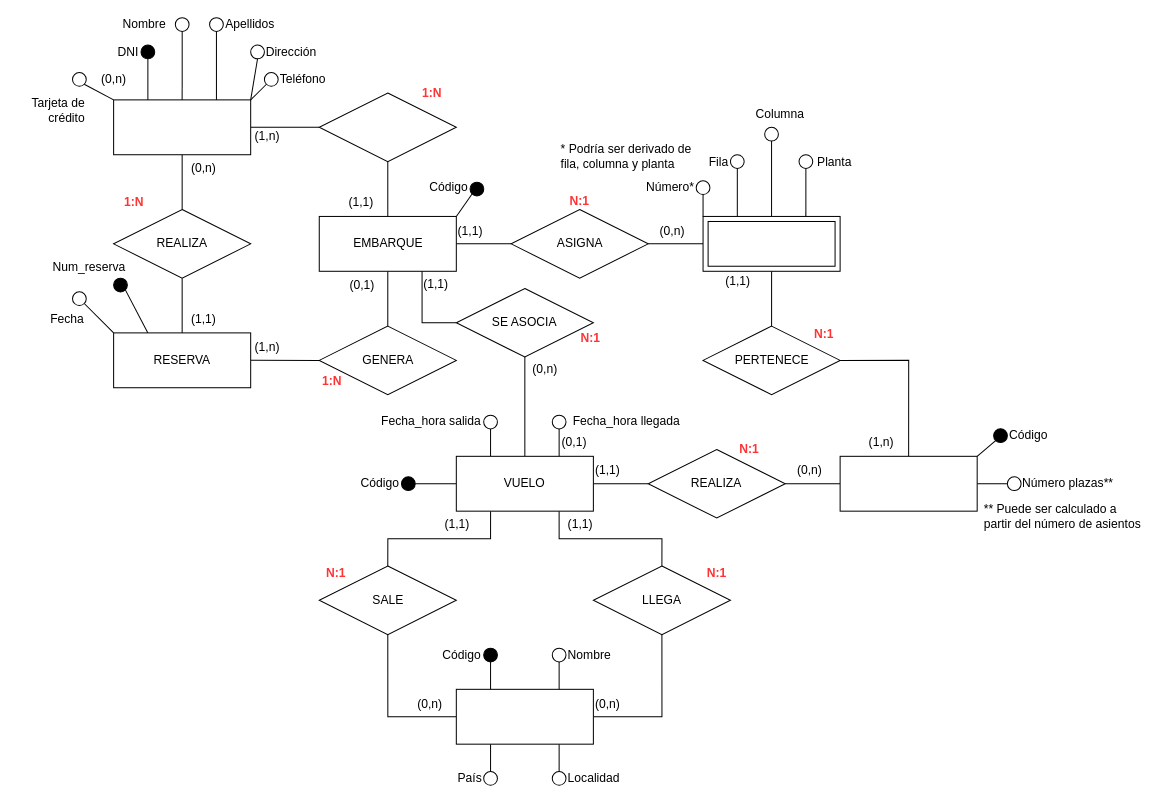
The diagram is 1163 pixels wide and 803 high, and some of its shapes have lost their labels. The shapes that lost their labels are listed below. From the top down, each one's centre as x and y in pixels, then its label:
the point at 182,127: CLIENTE
the point at 387,127: OBTIENE
the point at 771,243: ASIENTO
the point at 908,483: AVIÓN
the point at 524,716: AEROPUERTO
